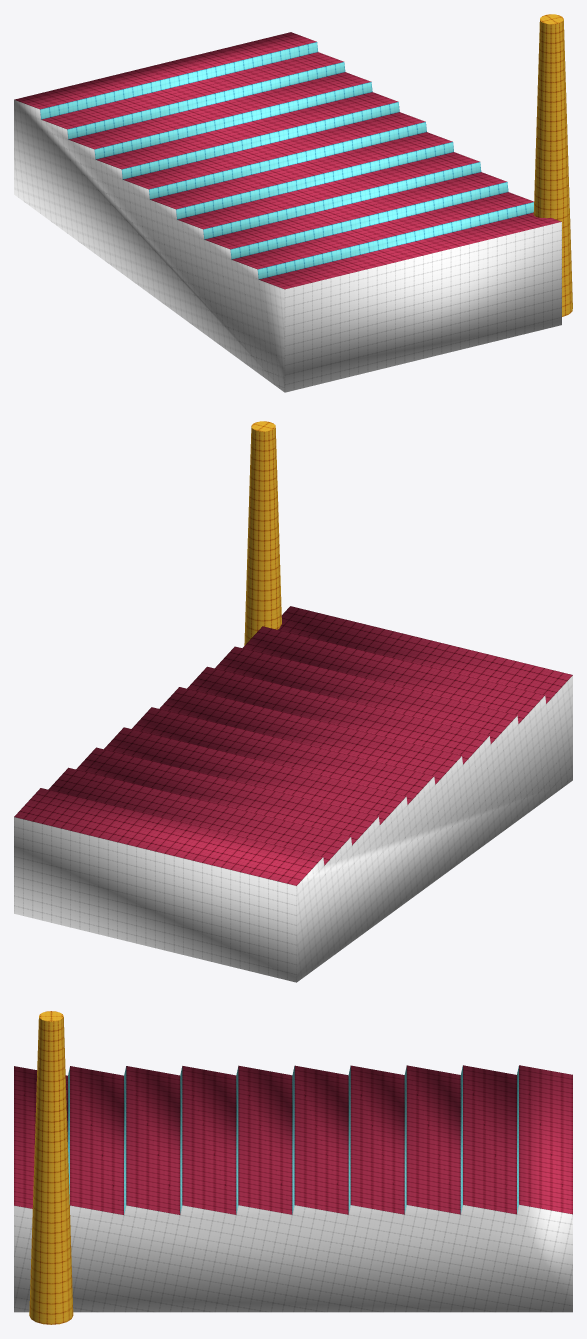
Rendered from FABRICA.fbx.
3 views of the same model, one above another, from view 1: azimuth 30°, elevation 25°; view 2: azimuth 150°, elevation 25°; view 3: azimuth 270°, elevation 25° (orthographic). The views are drawn at different scales.
Visible parts, largest first — view 1: FABRICA; view 2: FABRICA; view 3: FABRICA.
Boxes of the visible parts, x1,y1,x2,y2 form: FABRICA: (14, 14, 572, 392); FABRICA: (14, 421, 572, 982); FABRICA: (14, 1011, 572, 1324).
Bounding box in the file's own units: 32.88 × 30.07 × 50.8.
